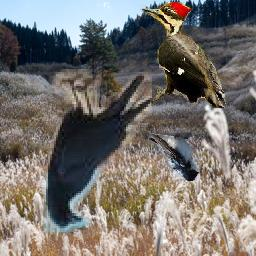Crow: (44, 69, 153, 235)
Swallow: (149, 133, 200, 181)
Woodpecker: (140, 2, 226, 108)
